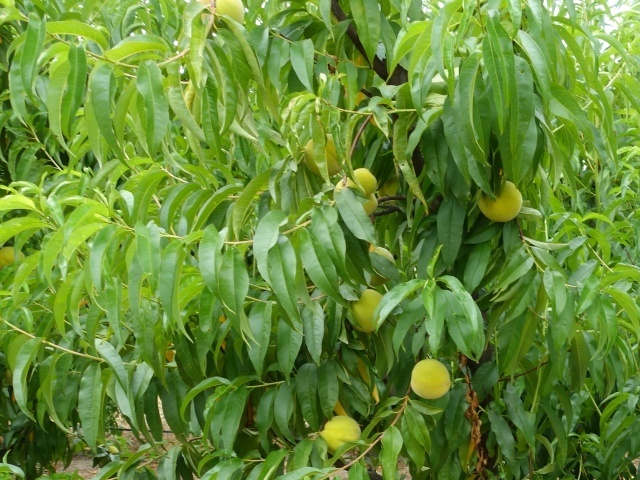peach: (340, 286, 389, 336), (476, 179, 524, 226), (407, 355, 454, 402), (301, 134, 347, 179), (328, 175, 378, 216), (318, 413, 362, 457), (203, 1, 248, 28), (350, 165, 387, 194)
